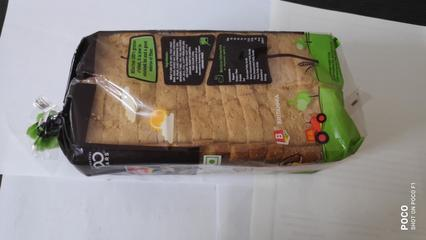bread: (47, 31, 358, 182)
